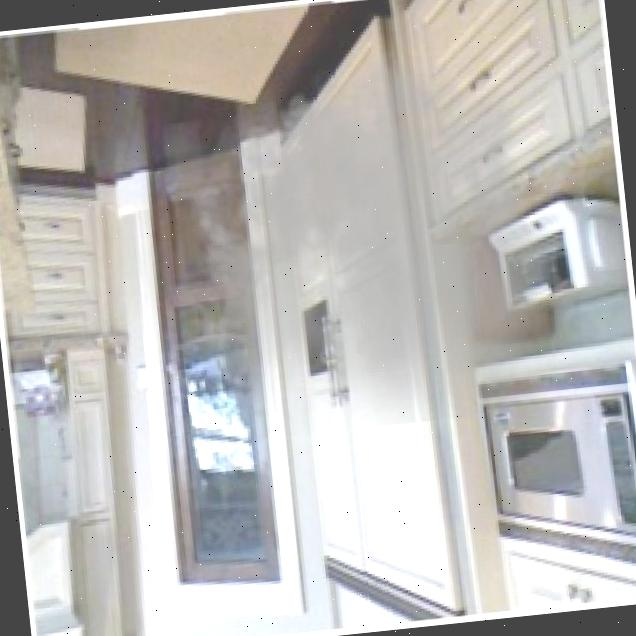smoke: (154, 23, 570, 446)
